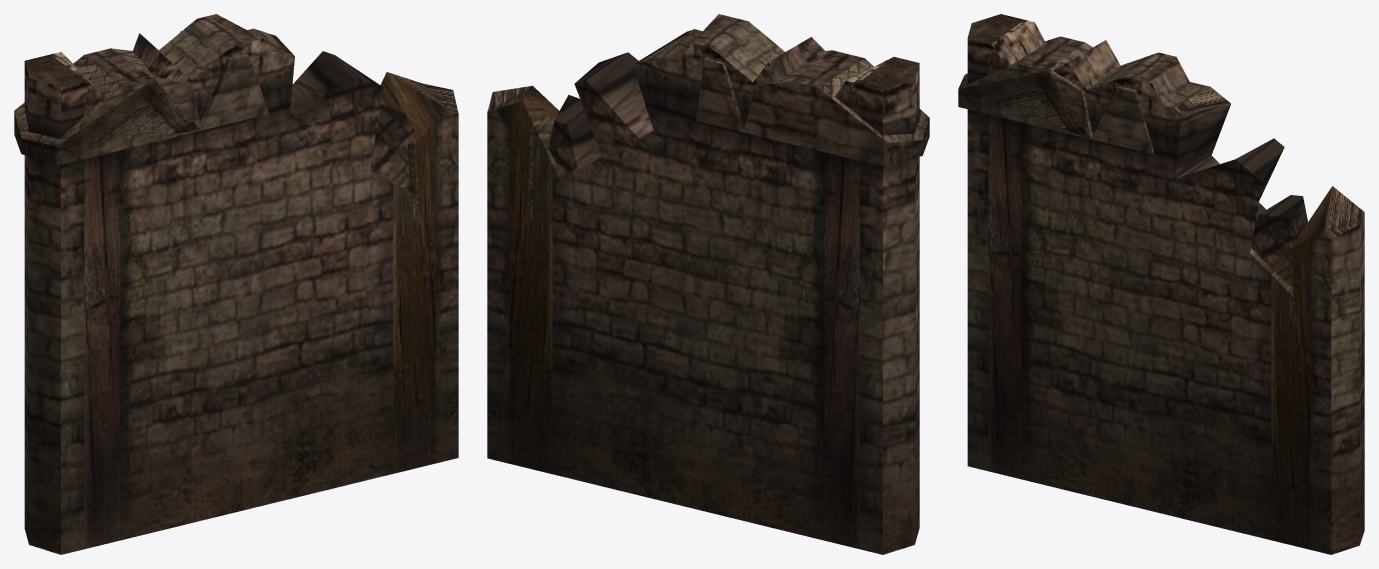
Rendered from wall05.fbx.
The picture shows the model from 3 angles, left to right: view 1: azimuth 30°, elevation 25°; view 2: azimuth 150°, elevation 25°; view 3: azimuth 330°, elevation 25°; orthographic projection. The views are drawn at different scales.
Parts seen in each view (by area): view 1: wall05; view 2: wall05; view 3: wall05.
Boxes of the visible parts, x1,y1,x2,y2 form: wall05: (14, 14, 458, 554); wall05: (487, 14, 929, 554); wall05: (958, 14, 1364, 554).
Bounding box in the file's own units: 758 × 784 × 128.
